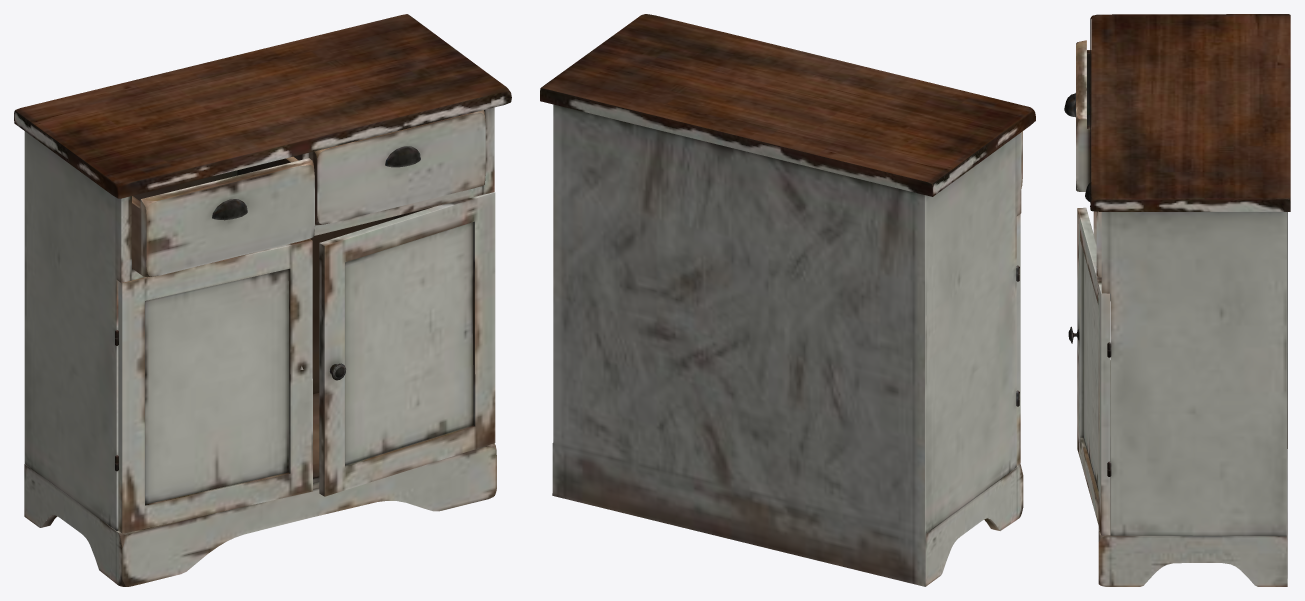
Rendered from wood_cabinet.glb.
3 renders of one model, left to right at view 1: azimuth 30°, elevation 25°; view 2: azimuth 150°, elevation 25°; view 3: azimuth 270°, elevation 25°, orthographic. The views are drawn at different scales.
Parts seen in each view (by area): view 1: wood_cabinet; view 2: wood_cabinet; view 3: wood_cabinet.
Boxes of the visible parts, <box> form: wood_cabinet: <box>14,14,511,586</box>; wood_cabinet: <box>540,14,1035,586</box>; wood_cabinet: <box>1064,14,1290,586</box>.
Size of the model in its own units: 1.19 by 1.18 by 0.6169.
Materials: 1 (1 with a texture image).
